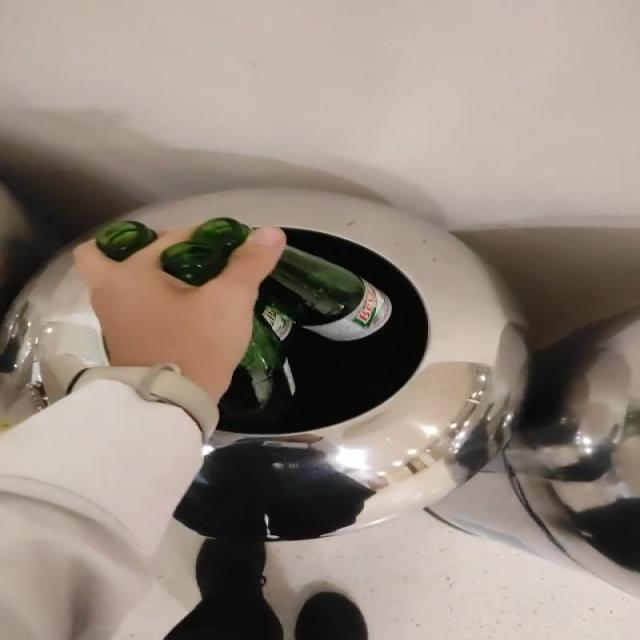Bin: (125, 188, 528, 534), (1, 252, 105, 427)
Glass: (219, 246, 391, 422), (161, 218, 251, 286), (95, 221, 156, 261)
